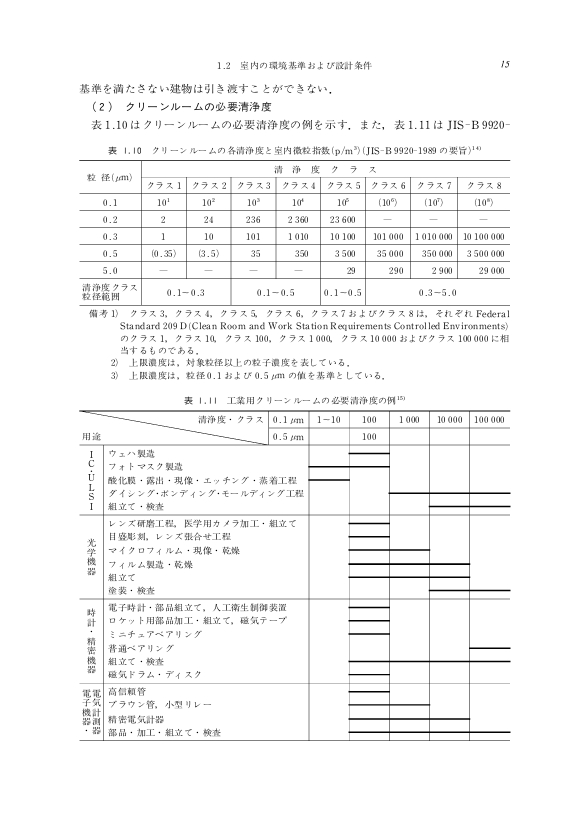table: (79, 410, 510, 741), (79, 159, 510, 306)
